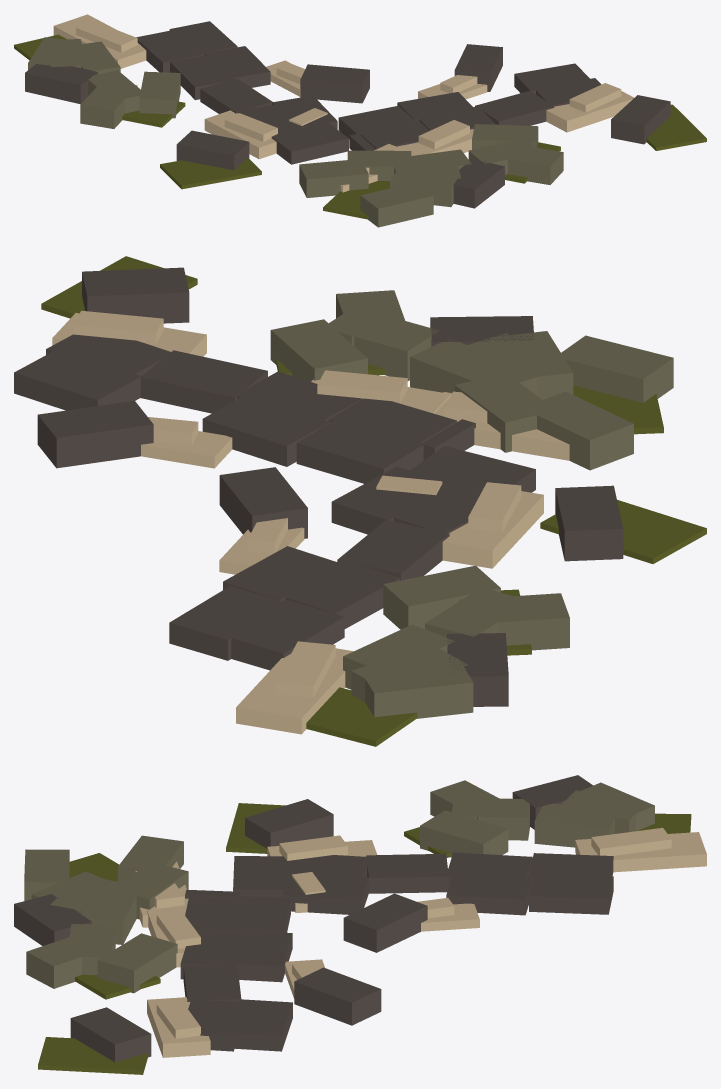
Rendered from SM_SacosEsquina_v4_Red_e3_Brecha_LOD0.fbx.
3 views of the same model, one above another, from view 1: azimuth 30°, elevation 25°; view 2: azimuth 150°, elevation 25°; view 3: azimuth 270°, elevation 25° (orthographic). The views are drawn at different scales.
Visible parts, largest first — view 1: SM_sacos_piezas_v19_LOD0; view 2: SM_sacos_piezas_v19_LOD0; view 3: SM_sacos_piezas_v19_LOD0.
Boxes of the visible parts, x1,y1,x2,y2 form: SM_sacos_piezas_v19_LOD0: [14, 14, 706, 227]; SM_sacos_piezas_v19_LOD0: [14, 256, 706, 746]; SM_sacos_piezas_v19_LOD0: [14, 775, 706, 1074].
Bounding box in the file's own units: 6.82 × 0.26 × 7.2.
